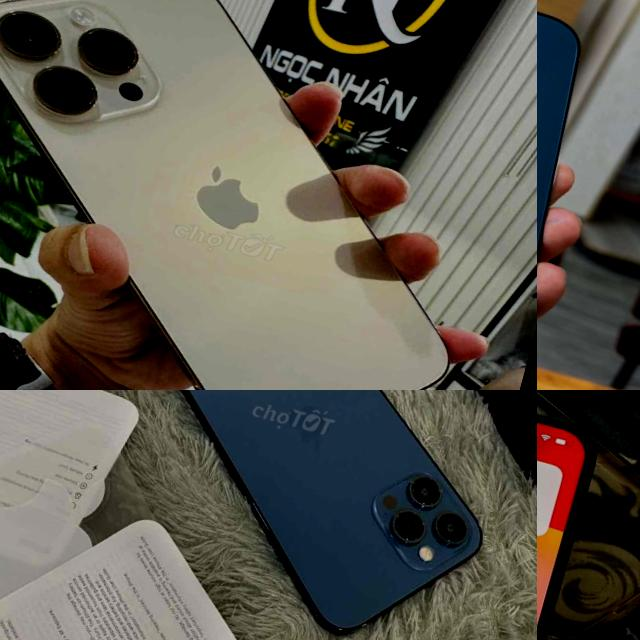gen_12_13: (81, 390, 537, 640), (537, 0, 610, 390), (537, 390, 623, 640)
gen_14: (0, 0, 533, 390)
